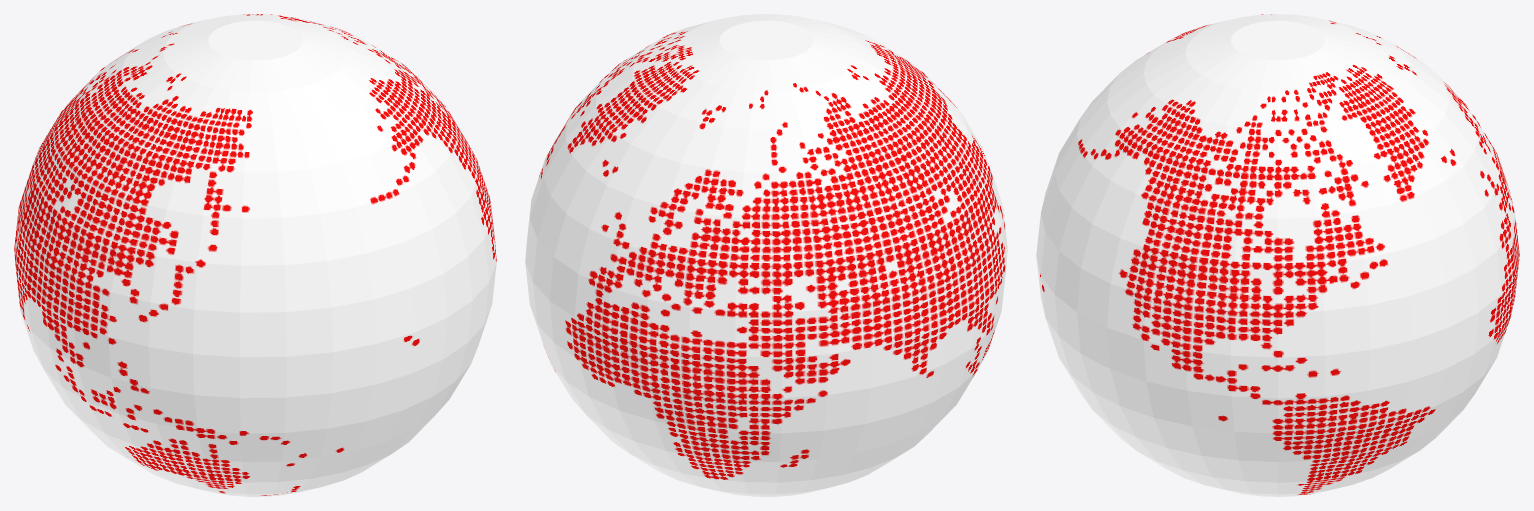
The model's file is red_earth_dots_lgbtqworldwide.gltf.
The picture shows the model from 3 angles, left to right: view 1: azimuth 30°, elevation 25°; view 2: azimuth 150°, elevation 25°; view 3: azimuth 270°, elevation 25°; orthographic projection.
Visible parts, largest first — view 1: Sphere; view 2: Sphere; view 3: Sphere.
Boxes of the visible parts, <box> form: Sphere: <box>14,14,496,496</box>; Sphere: <box>525,14,1007,496</box>; Sphere: <box>1036,14,1519,496</box>.
Size of the model in its own units: 2 by 1.99 by 2.
1 material, 1 textured.
